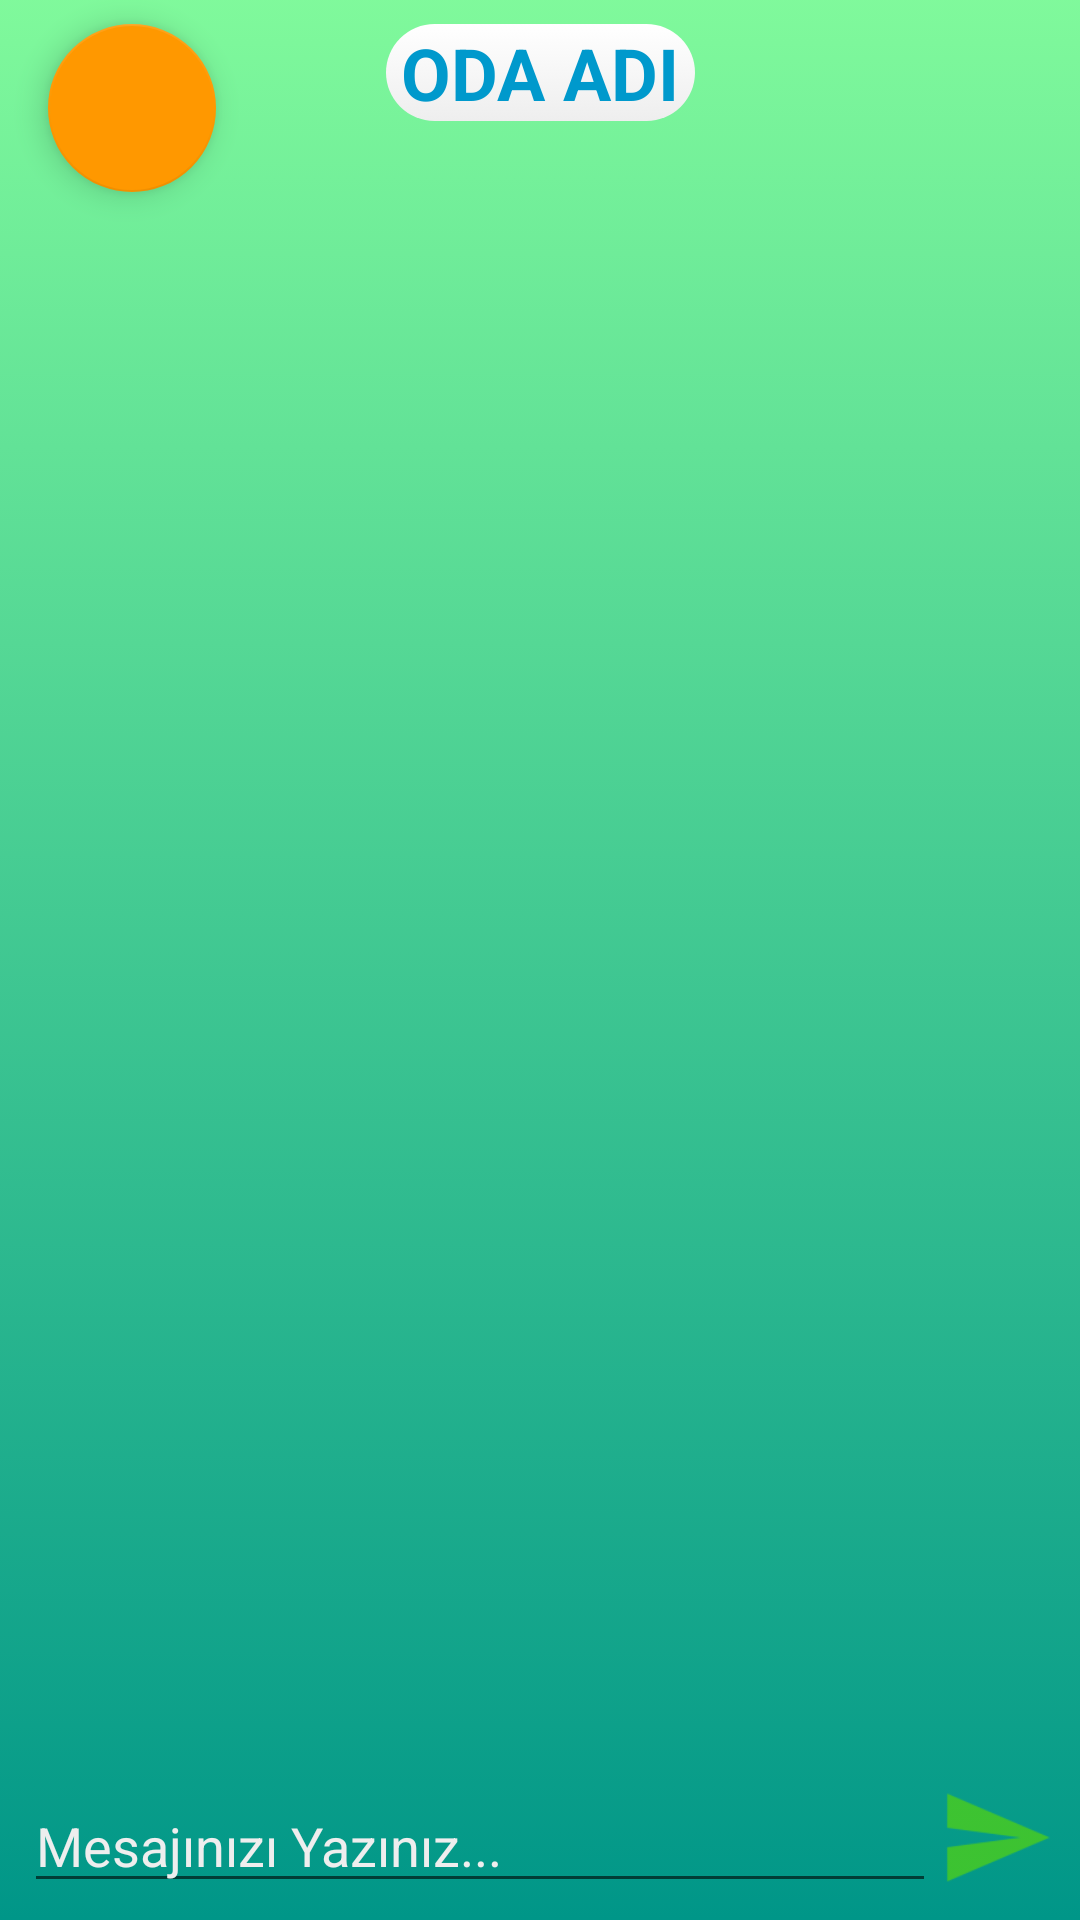

Screen size 1080w x 1920h. Icon name, then its box in pixels as (x1, y1, x2, y2):
sendgreen: (947, 1794, 1049, 1881)
